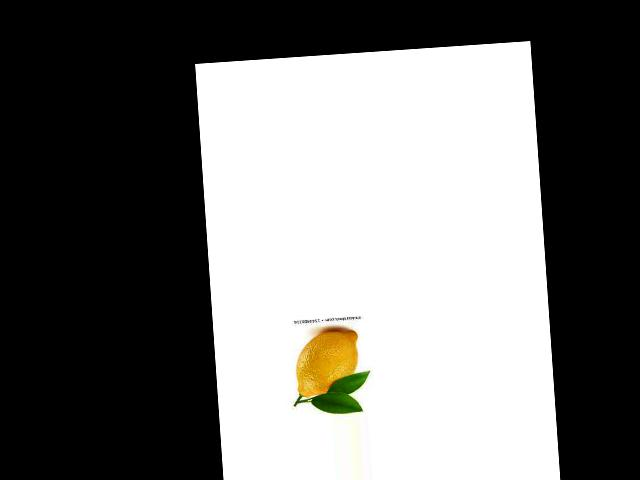lemon: (291, 328, 367, 401)
